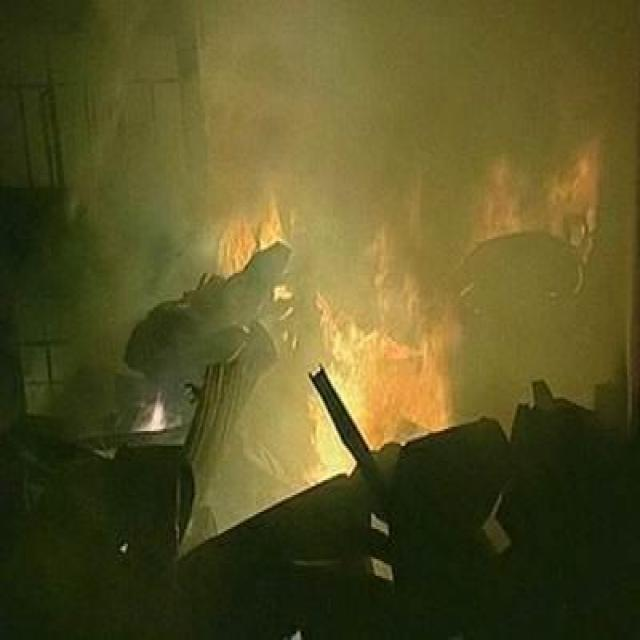fire: (205, 100, 600, 449)
